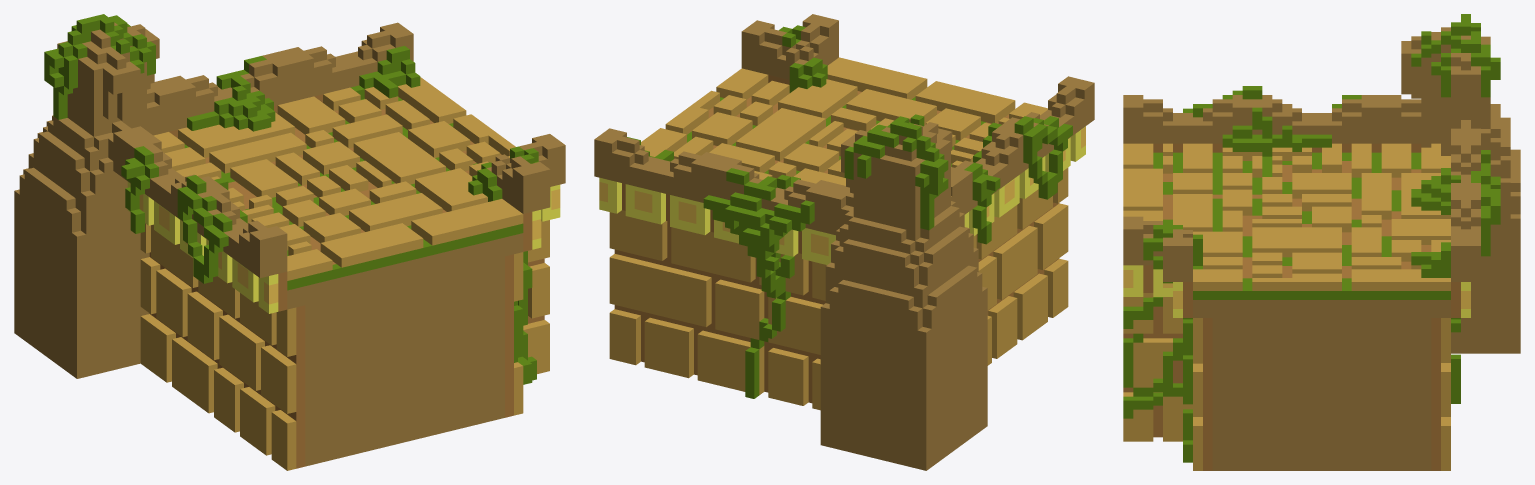
Rendered from Corner_Temple.obj.
3 renders of one model, left to right at view 1: azimuth 30°, elevation 25°; view 2: azimuth 150°, elevation 25°; view 3: azimuth 270°, elevation 25°, orthographic. The views are drawn at different scales.
Bounding box in the file's own units: 40 × 34 × 40.
1 material, 1 textured.
